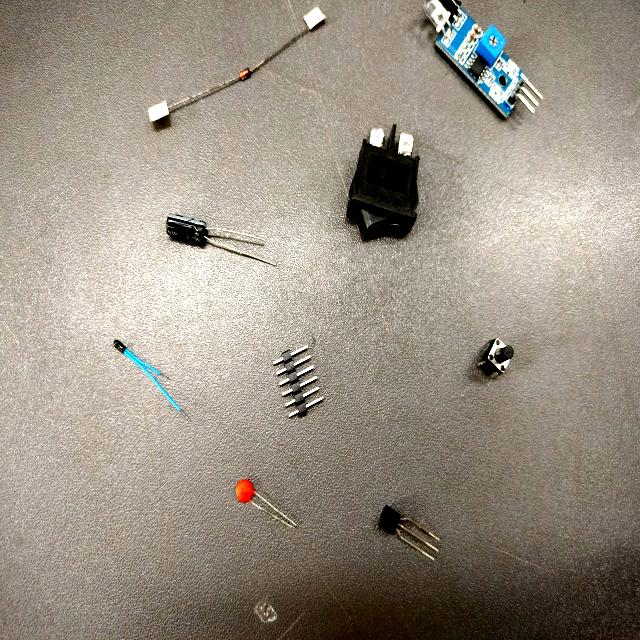capacitor: (167, 218, 207, 247), (236, 479, 256, 503)
